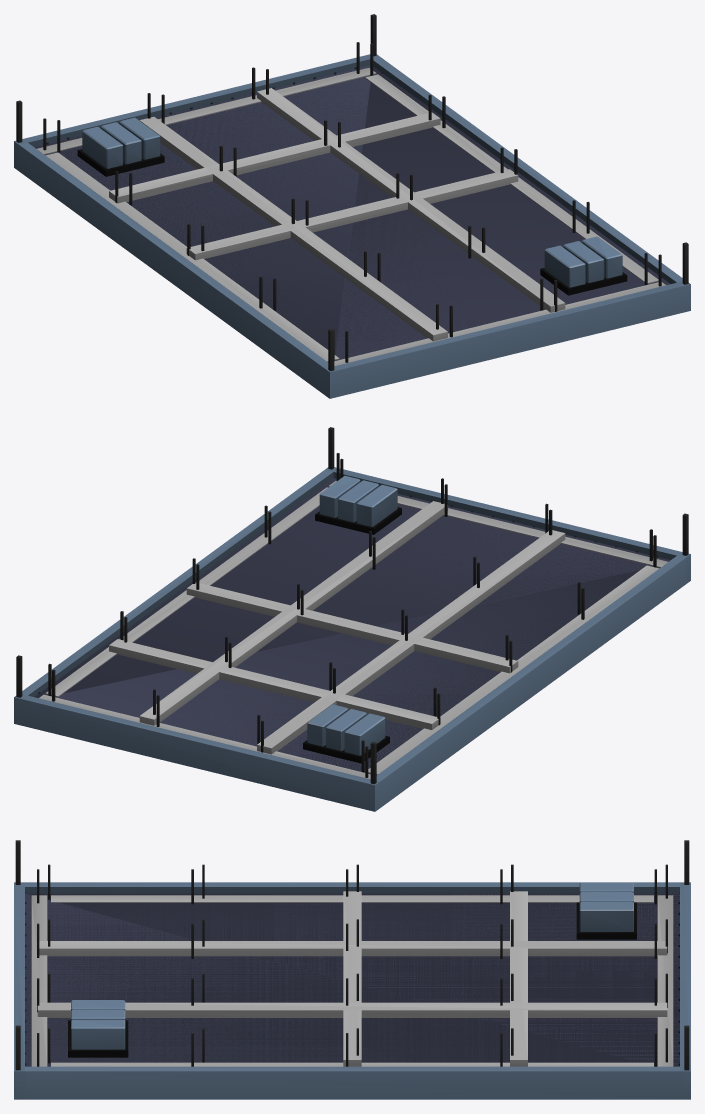
The model's file is veyran_power_plant_foundation.glb.
The picture shows the model from 3 angles, top to bottom: view 1: azimuth 30°, elevation 25°; view 2: azimuth 150°, elevation 25°; view 3: azimuth 270°, elevation 25°; orthographic projection. The views are drawn at different scales.
Parts seen in each view (by area): view 1: body (×3); view 2: body (×3); view 3: body (×3).
Boxes of the visible parts, x1,y1,x2,y2 form: body (×3): [14, 14, 690, 398]; body (×3): [14, 427, 690, 811]; body (×3): [14, 840, 690, 1099].
Size of the model in its own units: 7.38 by 1.3 by 11.18.
